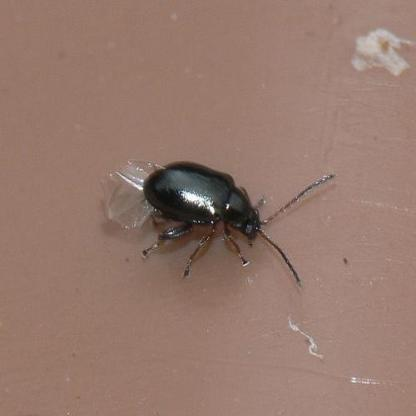beetle: (134, 146, 338, 288)
